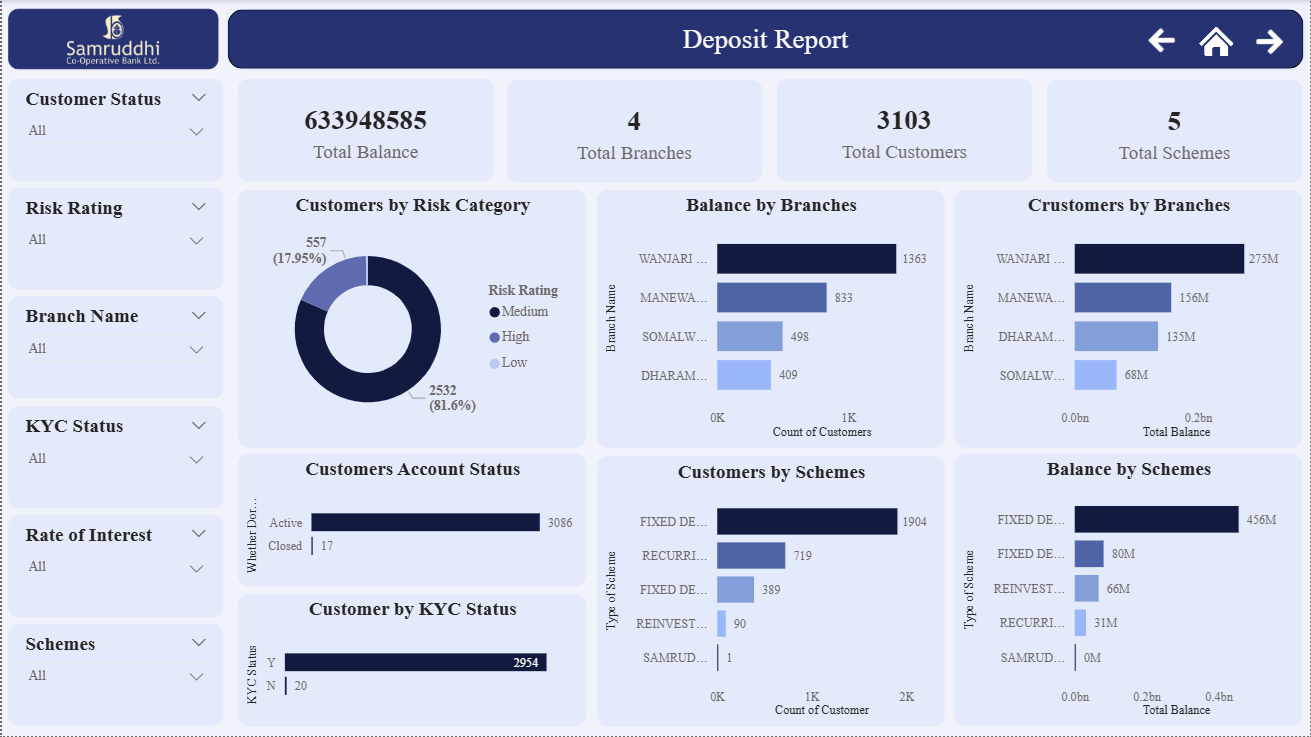

What the dashboard file says about the page in this screenshot:
{"tool":"powerbi","page":{"name":"Deposit Report","canvas":[1280,720],"ordinal":4},"visuals":[{"type":"slicer","fields":{"Values":["TD DUMP.Risk Rating"]},"box":[6.1,183.7,210.3,100],"z":0},{"type":"slicer","fields":{"Values":["TD DUMP.Whether Dormant/Active"]},"box":[6.1,77,210.3,100.3],"z":1000},{"type":"slicer","fields":{"Values":["TD DUMP.Branch Name"]},"box":[6.1,290.3,210.3,100],"z":2000},{"type":"slicer","fields":{"Values":["TD DUMP.KYC Status"]},"box":[6.1,396.9,210.3,100],"z":3000},{"type":"slicer","fields":{"Values":["TD DUMP.Rate of Interest"]},"box":[6.1,503.6,210.3,100],"z":4000},{"type":"slicer","fields":{"Values":["TD DUMP.Type of Term Deposit Scheme"]},"box":[6.1,610.2,210.3,100.3],"z":5000},{"type":"card","fields":{"Values":["Sum(TD DUMP.Balance As On 23-NOV-2023)"]},"box":[230.8,77.2,249.5,100.3],"z":6000},{"type":"card","fields":{"Values":["Count(TD DUMP.Branch Code)"]},"box":[494.6,77.9,249.5,100],"z":7000},{"type":"card","fields":{"Values":["CountNonNull(TD DUMP.Customer ID)"]},"box":[758.5,76.7,249.5,100],"z":8000},{"type":"card","fields":{"Values":["Count(TD DUMP.Scheme code)"]},"box":[1022.3,78.4,249.5,100],"z":9000},{"type":"donutChart","title":"Customers by Risk Category","fields":{"Category":["TD DUMP.Risk Rating"],"Y":["CountNonNull(TD DUMP.Customer ID)"]},"box":[231.1,185.9,340,251.9],"z":10000},{"type":"barChart","title":"Customers Account Status","fields":{"Category":["TD DUMP.Whether Dormant/Active"],"Y":["CountNonNull(TD DUMP.Customer ID)"]},"box":[231.1,443.9,339.9,129.6],"z":11000},{"type":"barChart","title":"Customer by KYC Status","fields":{"Category":["TD DUMP.KYC Status"],"Y":["CountNonNull(TD DUMP.Customer ID)"]},"box":[231.1,580.8,339.9,129.6],"z":12000},{"type":"barChart","title":"Balance by Branches","fields":{"Y":["CountNonNull(TD DUMP.Customer ID)"],"Category":["TD DUMP.Branch Name"]},"box":[581.5,185.9,340,251.9],"z":13000},{"type":"barChart","title":"Crustomers by Branches","fields":{"Category":["TD DUMP.Branch Name"],"Y":["Sum(TD DUMP.Balance As On 23-NOV-2023)"]},"box":[931.8,185.9,339.9,251.9],"z":14000},{"type":"barChart","title":"Customers by Schemes","fields":{"Y":["CountNonNull(TD DUMP.Customer ID)"],"Category":["TD DUMP.Type of Term Deposit Scheme"]},"box":[582.1,446.3,339.9,264.1],"z":15000},{"type":"barChart","title":"Balance by Schemes","fields":{"Y":["Sum(TD DUMP.Balance As On 23-NOV-2023)"],"Category":["TD DUMP.Type of Term Deposit Scheme"]},"box":[931.8,443.9,339.9,266.6],"z":16000},{"type":"group","id":"g1","title":"Group 1","box":[1.2,0,215.2,77],"z":17000},{"type":"group","id":"g2","title":"Group 3","box":[219.8,0,1060.2,80.7],"z":18000},{"type":"shape","box":[5.5,8.3,205.9,59],"z":19000,"group":"g1"},{"type":"image","box":[1.2,0,215.2,77],"z":20000,"group":"g1"},{"type":"shape","box":[219.8,8.6,1054.1,59.9],"z":23000,"group":"g2"},{"type":"image","box":[1147.9,0,79.5,80.7],"z":25000,"group":"g2"},{"type":"image","box":[1094.1,0,79.5,79.5],"z":26000,"group":"g2"},{"type":"image","box":[1200.5,1.2,79.5,79.5],"z":27000,"group":"g2"}]}

Visuals, with their boxes in screenshot pixels (x1, y1, x2, y2), scaled from the page's 1280x720 canvas onto the 1311x737 screenshot:
slicer - TD DUMP.Risk Rating: 6, 188, 222, 290
slicer - TD DUMP.Whether Dormant/Active: 6, 79, 222, 181
slicer - TD DUMP.Branch Name: 6, 297, 222, 400
slicer - TD DUMP.KYC Status: 6, 406, 222, 509
slicer - TD DUMP.Rate of Interest: 6, 515, 222, 618
slicer - TD DUMP.Type of Term Deposit Scheme: 6, 625, 222, 727
card - Sum(TD DUMP.Balance As On 23-NOV-2023): 236, 79, 492, 182
card - Count(TD DUMP.Branch Code): 507, 80, 762, 182
card - CountNonNull(TD DUMP.Customer ID): 777, 79, 1032, 181
card - Count(TD DUMP.Scheme code): 1047, 80, 1303, 183
"Customers by Risk Category" donutChart: 237, 190, 585, 448
"Customers Account Status" barChart: 237, 454, 585, 587
"Customer by KYC Status" barChart: 237, 595, 585, 727
"Balance by Branches" barChart: 596, 190, 944, 448
"Crustomers by Branches" barChart: 954, 190, 1302, 448
"Customers by Schemes" barChart: 596, 457, 944, 727
"Balance by Schemes" barChart: 954, 454, 1302, 727
"Group 1" group: 1, 0, 222, 79
"Group 3" group: 225, 0, 1310, 83
shape: 6, 8, 217, 69
image: 1, 0, 222, 79
shape: 225, 9, 1305, 70
image: 1176, 0, 1257, 83
image: 1121, 0, 1202, 81
image: 1230, 1, 1310, 83
